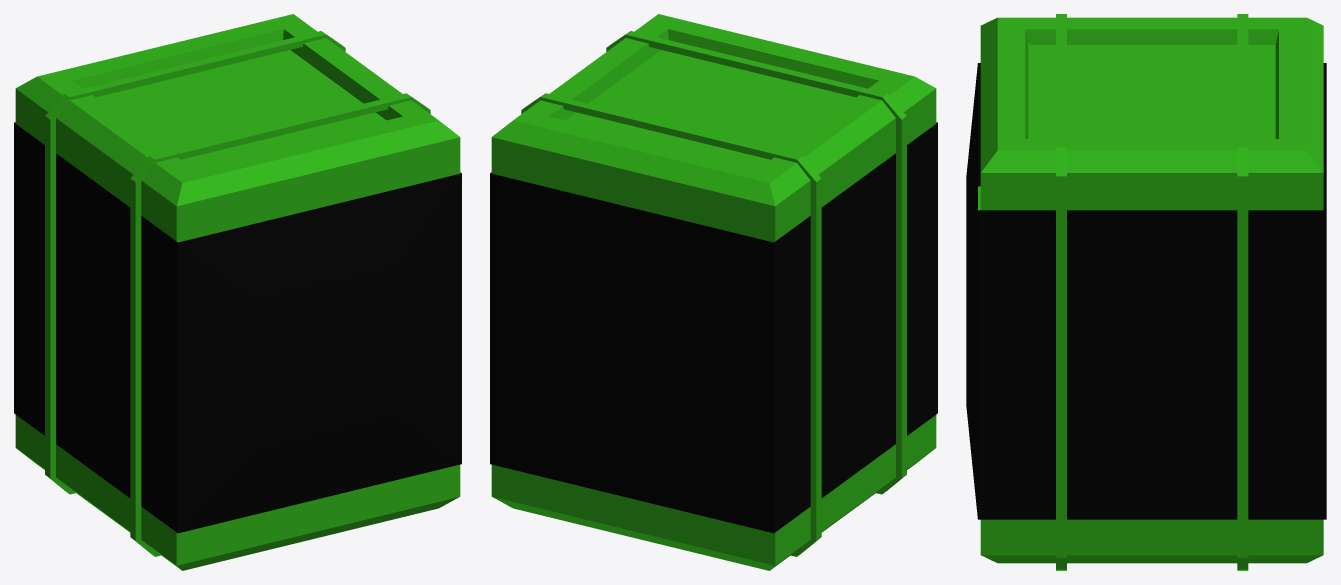
The model's file is SM_washing_machine1.fbx.
3 renders of one model, left to right at view 1: azimuth 30°, elevation 25°; view 2: azimuth 150°, elevation 25°; view 3: azimuth 270°, elevation 25°, orthographic. The views are drawn at different scales.
Parts seen in each view (by area): view 1: washing_machine1; view 2: washing_machine1; view 3: washing_machine1.
Boxes of the visible parts, x1,y1,x2,y2 form: washing_machine1: (14, 14, 461, 570); washing_machine1: (490, 14, 937, 570); washing_machine1: (966, 14, 1326, 570).
Size of the model in its own units: 70.52 by 90.85 by 69.99.
